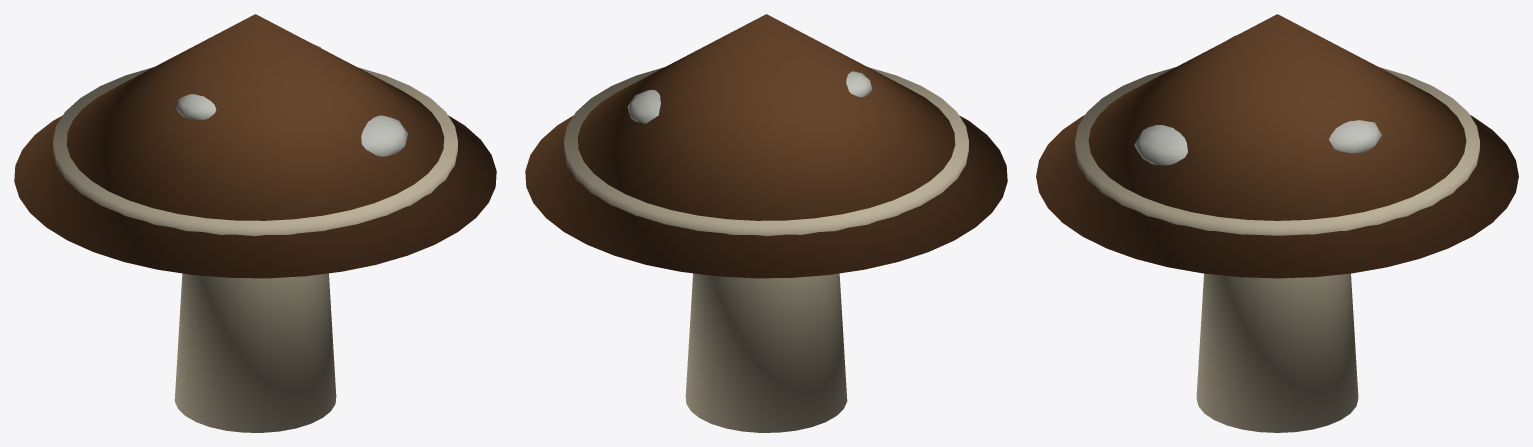
File: wild-mushroom.obj
The picture shows the model from 3 angles, left to right: view 1: azimuth 30°, elevation 25°; view 2: azimuth 150°, elevation 25°; view 3: azimuth 270°, elevation 25°; orthographic projection.
Visible parts, largest first — view 1: wild-mushroom; view 2: wild-mushroom; view 3: wild-mushroom.
Boxes of the visible parts, x1,y1,x2,y2 form: wild-mushroom: [14, 14, 496, 432]; wild-mushroom: [525, 14, 1007, 432]; wild-mushroom: [1036, 14, 1518, 432].
Size of the model in its own units: 0.3565 by 0.3134 by 0.3565.
